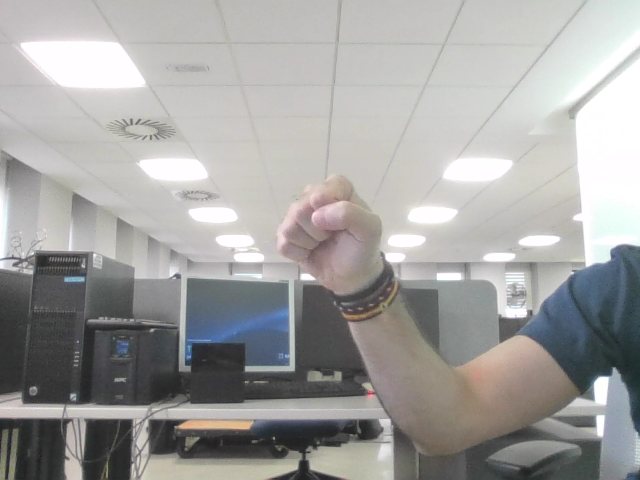Puño: (286, 192, 366, 255)
